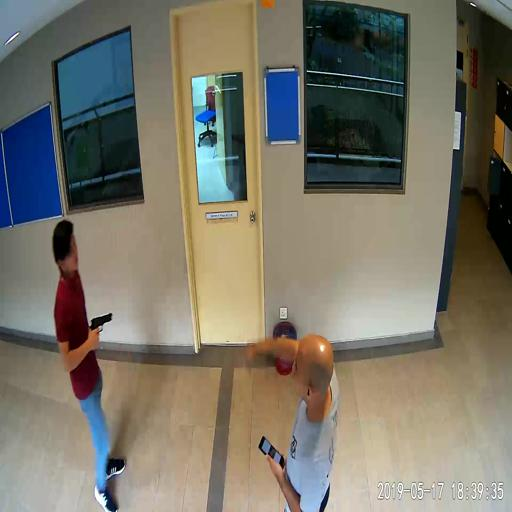pistol: (89, 311, 112, 345)
